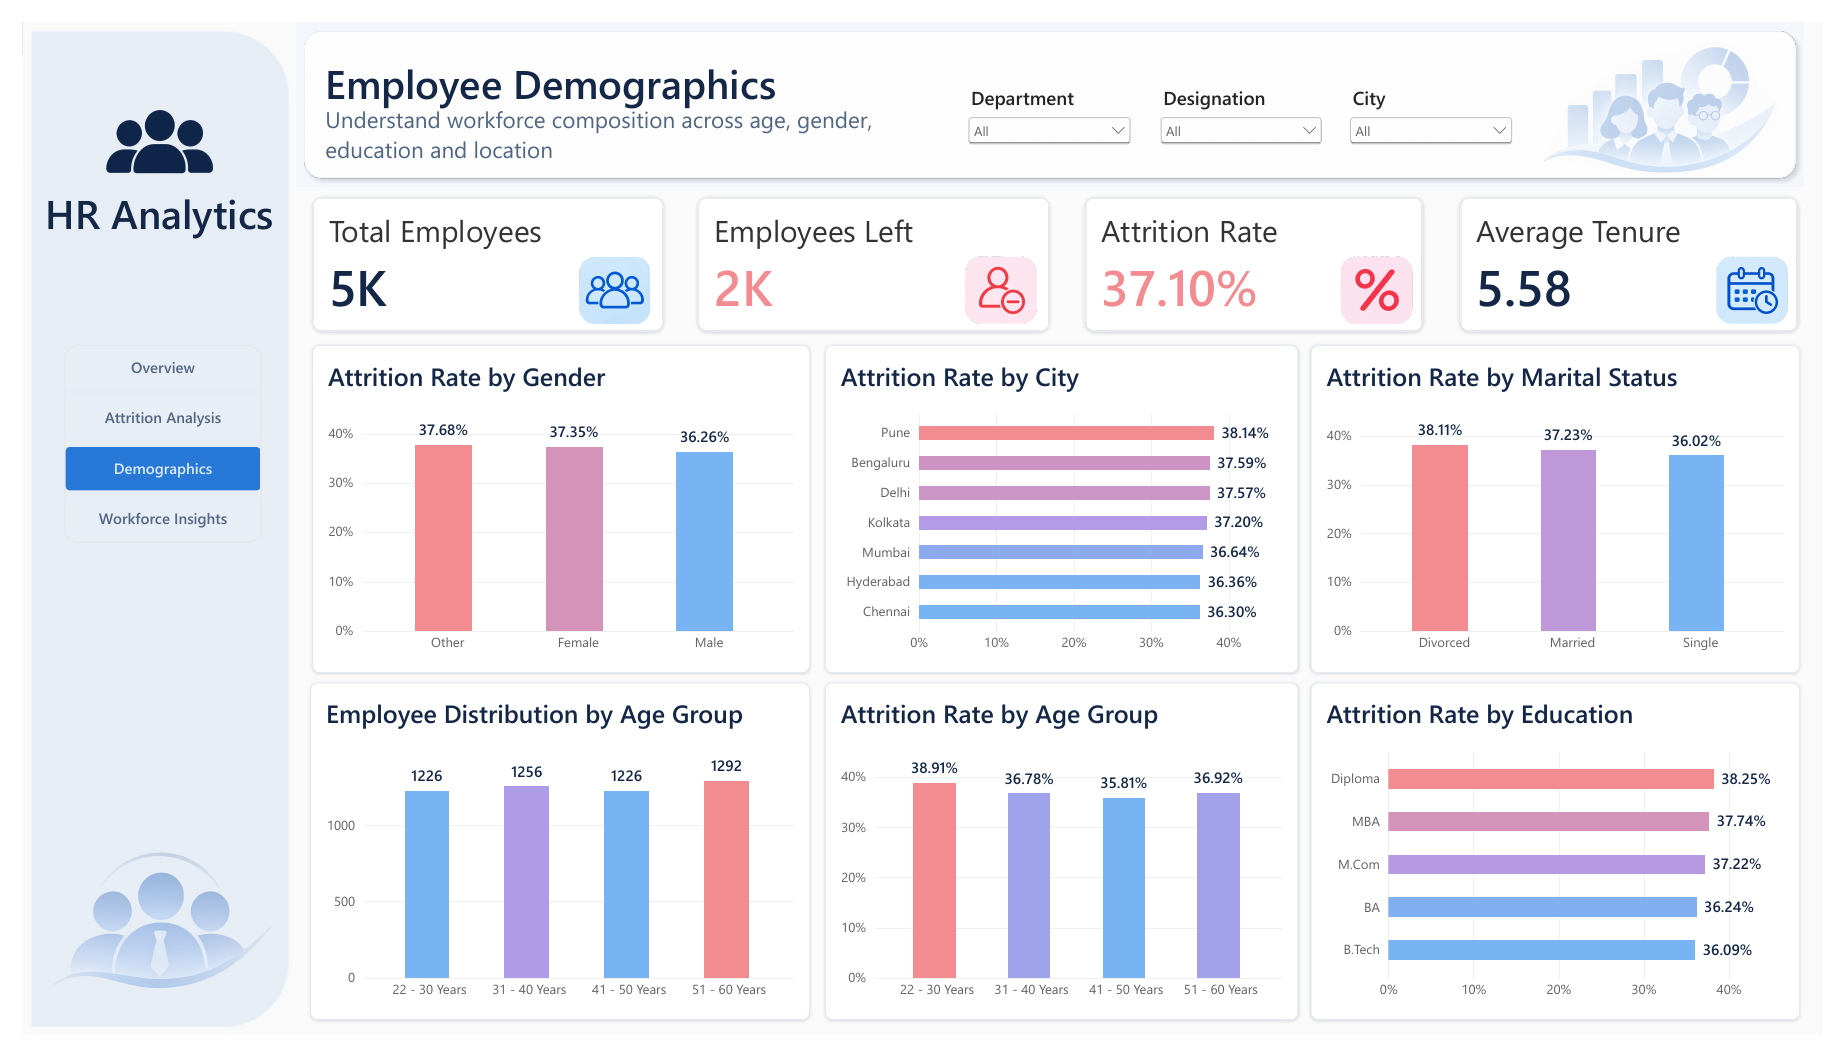

What the dashboard file says about the page in this screenshot:
{"tool":"powerbi","page":{"name":"Demographics","canvas":[1920,1080],"ordinal":2},"visuals":[{"type":"shape","box":[292,0,1608,175],"z":0},{"type":"shape","box":[0,0,292.5,1080],"z":1000},{"type":"cardVisual","title":"Hello","fields":{"Data":["HR_Attrition_Indian_Dataset.Total Employees"]},"box":[308.6,185.7,375.7,144.3],"z":2000},{"type":"cardVisual","fields":{"Data":["HR_Attrition_Indian_Dataset.Employees Left"]},"box":[720,185.7,375.7,144.3],"z":3000},{"type":"cardVisual","fields":{"Data":["HR_Attrition_Indian_Dataset.Attrition Rate"]},"box":[1132.9,185.7,361.4,144.3],"z":4000},{"type":"cardVisual","fields":{"Data":["HR_Attrition_Indian_Dataset.Average Tenure"]},"box":[1532.9,185.7,361.4,144.3],"z":5000},{"type":"textbox","box":[322.5,36.2,628.8,63.8],"z":6000},{"type":"textbox","box":[322.9,87.1,630,87.1],"z":7000},{"type":"pageNavigator","box":[45,343.8,210,211.2],"z":8000},{"type":"clusteredColumnChart","title":"Attrition Rate by Gender","fields":{"Category":["HR_Attrition_Indian_Dataset.Gender"],"Y":["HR_Attrition_Indian_Dataset.Attrition Rate"]},"box":[308.6,344.3,531.4,350],"z":9000},{"type":"clusteredColumnChart","title":"Employee Distribution by Age Group","fields":{"Category":["HR_Attrition_Indian_Dataset.Age_Group"],"Y":["HR_Attrition_Indian_Dataset.Total Employees"]},"box":[307.1,704.3,532.9,360],"z":10000},{"type":"clusteredColumnChart","title":"Attrition Rate by Marital Status","fields":{"Category":["HR_Attrition_Indian_Dataset.MaritalStatus"],"Y":["HR_Attrition_Indian_Dataset.Attrition Rate"]},"box":[1374.3,344.3,521.4,350],"z":11000},{"type":"clusteredColumnChart","title":"Attrition Rate by Age Group","fields":{"Category":["HR_Attrition_Indian_Dataset.Age_Group"],"Y":["HR_Attrition_Indian_Dataset.Attrition Rate"]},"box":[855.7,704.3,505.7,360],"z":12000},{"type":"clusteredBarChart","title":"Attrition Rate by Education","fields":{"Category":["HR_Attrition_Indian_Dataset.EducationQualification"],"Y":["HR_Attrition_Indian_Dataset.Attrition Rate"]},"box":[1374.3,704.3,521.4,360],"z":13000},{"type":"clusteredBarChart","title":"Attrition Rate by City","fields":{"Category":["HR_Attrition_Indian_Dataset.City"],"Y":["HR_Attrition_Indian_Dataset.Attrition Rate"]},"box":[855.7,344.3,505.7,350],"z":14000},{"type":"image","box":[960,245.4,166.9,80],"z":15000},{"type":"image","box":[1360.8,245.4,166.9,80],"z":16000},{"type":"image","box":[1782.3,245.4,124.6,80],"z":17000},{"type":"image","box":[546.4,245.5,172,80],"z":18000},{"type":"textbox","box":[25,175,245,225],"z":19000},{"type":"image","box":[0,825,300,255],"z":20000},{"type":"slicer","fields":{"Values":["HR_Attrition_Indian_Dataset.Department"]},"box":[1004.3,67.1,182.9,90],"z":21000},{"type":"slicer","fields":{"Values":["HR_Attrition_Indian_Dataset.Designation"]},"box":[1208.6,67.1,182.9,90],"z":22000},{"type":"slicer","fields":{"Values":["HR_Attrition_Indian_Dataset.City"]},"box":[1411.4,67.1,182.9,90],"z":23000},{"type":"image","box":[1595,0,300,175],"z":24000},{"type":"image","box":[55,40,181.7,156.7],"z":25000}]}

Visuals, with their boxes in screenshot pixels (x1, y1, x2, y2), scaled from the page's 1920x1080 canvas onto the 1845x1058 screenshot:
shape: x1=281 y1=0 x2=1826 y2=171
shape: x1=0 y1=0 x2=281 y2=1057
"Hello" cardVisual: x1=297 y1=182 x2=658 y2=323
cardVisual - HR_Attrition_Indian_Dataset.Employees Left: x1=692 y1=182 x2=1053 y2=323
cardVisual - HR_Attrition_Indian_Dataset.Attrition Rate: x1=1089 y1=182 x2=1436 y2=323
cardVisual - HR_Attrition_Indian_Dataset.Average Tenure: x1=1473 y1=182 x2=1820 y2=323
textbox: x1=310 y1=35 x2=914 y2=98
textbox: x1=310 y1=85 x2=916 y2=171
pageNavigator: x1=43 y1=337 x2=245 y2=544
"Attrition Rate by Gender" clusteredColumnChart: x1=297 y1=337 x2=807 y2=680
"Employee Distribution by Age Group" clusteredColumnChart: x1=295 y1=690 x2=807 y2=1043
"Attrition Rate by Marital Status" clusteredColumnChart: x1=1321 y1=337 x2=1822 y2=680
"Attrition Rate by Age Group" clusteredColumnChart: x1=822 y1=690 x2=1308 y2=1043
"Attrition Rate by Education" clusteredBarChart: x1=1321 y1=690 x2=1822 y2=1043
"Attrition Rate by City" clusteredBarChart: x1=822 y1=337 x2=1308 y2=680
image: x1=922 y1=240 x2=1083 y2=319
image: x1=1308 y1=240 x2=1468 y2=319
image: x1=1713 y1=240 x2=1832 y2=319
image: x1=525 y1=240 x2=690 y2=319
textbox: x1=24 y1=171 x2=259 y2=392
image: x1=0 y1=808 x2=288 y2=1057
slicer - HR_Attrition_Indian_Dataset.Department: x1=965 y1=66 x2=1141 y2=154
slicer - HR_Attrition_Indian_Dataset.Designation: x1=1161 y1=66 x2=1337 y2=154
slicer - HR_Attrition_Indian_Dataset.City: x1=1356 y1=66 x2=1532 y2=154
image: x1=1533 y1=0 x2=1821 y2=171
image: x1=53 y1=39 x2=227 y2=193
